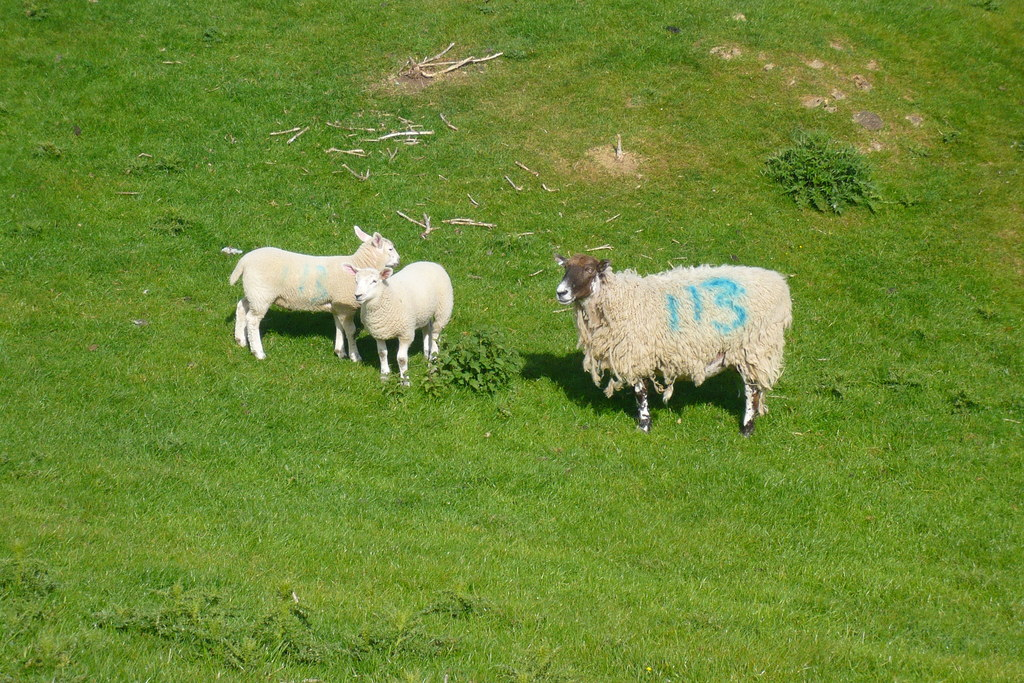sheep: (544, 236, 797, 447)
